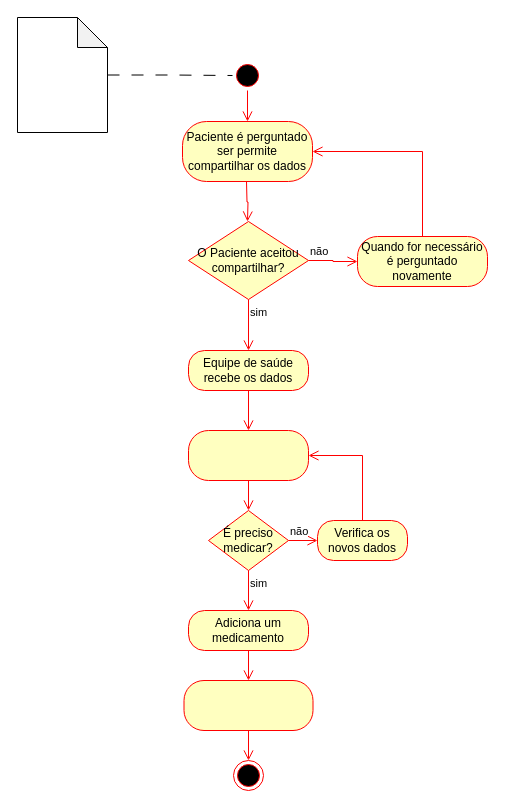
Image size: 505x808. Some labels were removed from this diagram. The centre of each missing label's shape, as x and y in pixels:
Dispositivos Vestíveis coleta os dados: (62,74)
Equipe de saúde verifica os dados recebidos: (248,455)
Paciente recebe notificação de um novo medicamento: (248,705)
